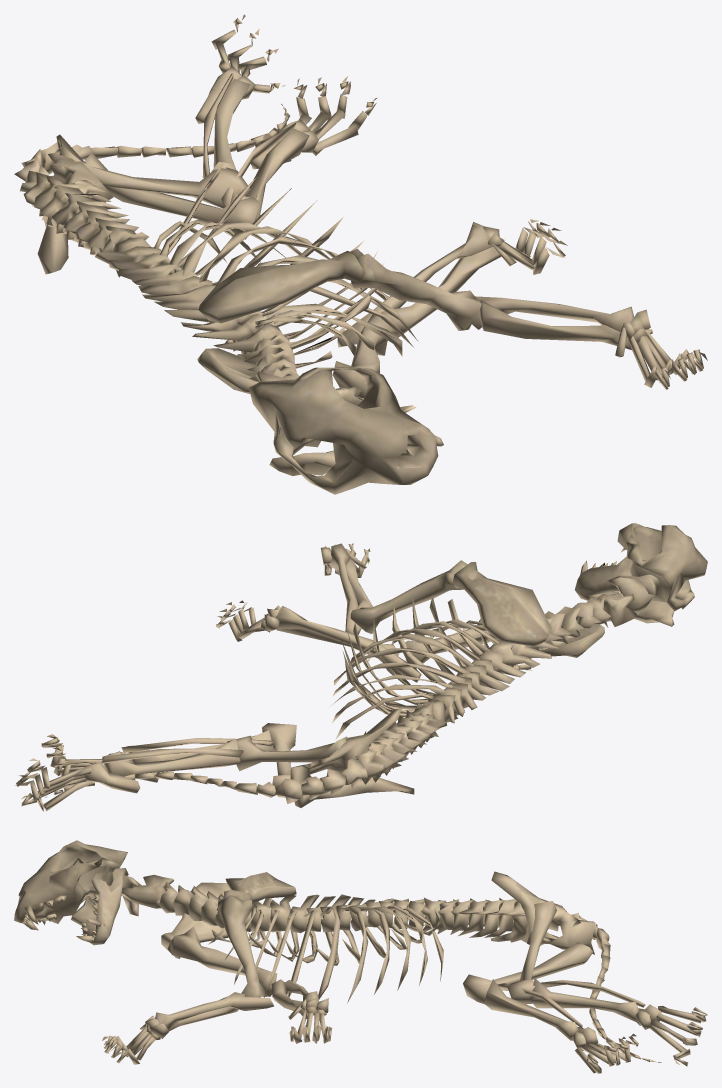
File: wildcat_bones.glb
3 renders of one model, top to bottom at view 1: azimuth 30°, elevation 25°; view 2: azimuth 150°, elevation 25°; view 3: azimuth 270°, elevation 25°, orthographic. The views are drawn at different scales.
Parts seen in each view (by area): view 1: PM3D_Cylinder3D1.002; view 2: PM3D_Cylinder3D1.002; view 3: PM3D_Cylinder3D1.002.
Boxes of the visible parts, box(x1,y1,x2,y2) form: PM3D_Cylinder3D1.002: box(14, 14, 707, 494); PM3D_Cylinder3D1.002: box(15, 523, 707, 811); PM3D_Cylinder3D1.002: box(14, 840, 707, 1073).
Size of the model in its own units: 1.3 by 0.3624 by 2.4.
1 material, 1 textured.
